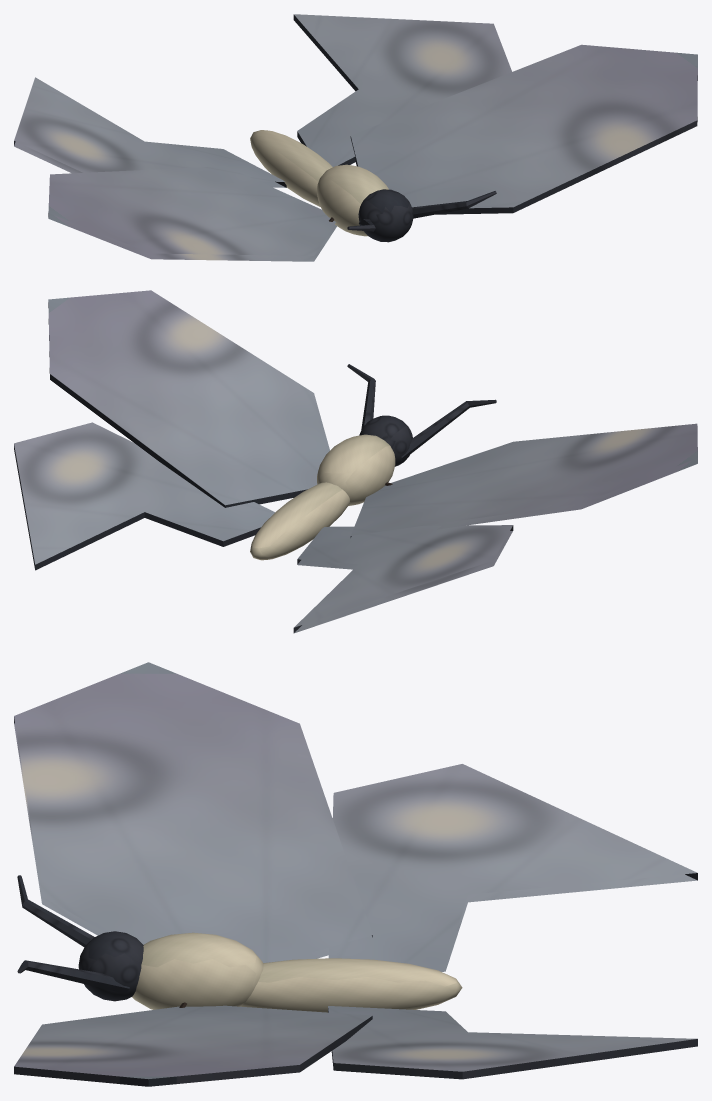
The model's file is forest_moon_moth.glb.
3 renders of one model, top to bottom at view 1: azimuth 30°, elevation 25°; view 2: azimuth 150°, elevation 25°; view 3: azimuth 270°, elevation 25°, orthographic. The views are drawn at different scales.
Visible parts, largest first — view 1: Painted butterfly wing.010, Painted butterfly wing.008, Painted butterfly wing.011, Painted butterfly wing.009, Velvet insect abdomen.002, Velvet insect thorax.002, Insect head.002, Curled butterfly antenna.005; view 2: Painted butterfly wing.010, Painted butterfly wing.008, Painted butterfly wing.011, Painted butterfly wing.009, Velvet insect abdomen.002, Velvet insect thorax.002, Insect head.002, Curled butterfly antenna.004, Curled butterfly antenna.005; view 3: Painted butterfly wing.008, Painted butterfly wing.009, Painted butterfly wing.010, Painted butterfly wing.011, Velvet insect abdomen.002, Velvet insect thorax.002, Insect head.002, Curled butterfly antenna.005, Curled butterfly antenna.004.
Boxes of the visible parts, box(x1,y1,x2,y2) form: Painted butterfly wing.010: box(350, 44, 697, 214); Painted butterfly wing.008: box(48, 166, 336, 261); Painted butterfly wing.011: box(293, 14, 511, 166); Painted butterfly wing.009: box(14, 77, 286, 187); Velvet insect abdomen.002: box(250, 130, 332, 206); Velvet insect thorax.002: box(317, 164, 388, 236); Insect head.002: box(358, 189, 413, 242); Curled butterfly antenna.005: box(412, 191, 496, 218); Painted butterfly wing.010: box(48, 290, 329, 507); Painted butterfly wing.008: box(350, 423, 697, 537); Painted butterfly wing.011: box(14, 422, 274, 570); Painted butterfly wing.009: box(293, 525, 513, 633); Velvet insect abdomen.002: box(250, 482, 350, 560); Velvet insect thorax.002: box(317, 434, 395, 505); Insect head.002: box(359, 415, 412, 466); Curled butterfly antenna.004: box(401, 399, 496, 460); Curled butterfly antenna.005: box(347, 364, 375, 429); Painted butterfly wing.008: box(14, 662, 372, 962); Painted butterfly wing.009: box(328, 764, 697, 971); Painted butterfly wing.010: box(14, 1005, 372, 1086); Painted butterfly wing.011: box(328, 1006, 697, 1079); Velvet insect abdomen.002: box(241, 958, 462, 1012); Velvet insect thorax.002: box(132, 932, 263, 1009); Insect head.002: box(78, 931, 143, 1001); Curled butterfly antenna.005: box(17, 960, 129, 993); Curled butterfly antenna.004: box(17, 875, 94, 947).
Size of the model in its own units: 1.76 by 0.2822 by 1.22.
Materials: 4 (4 with a texture image).
